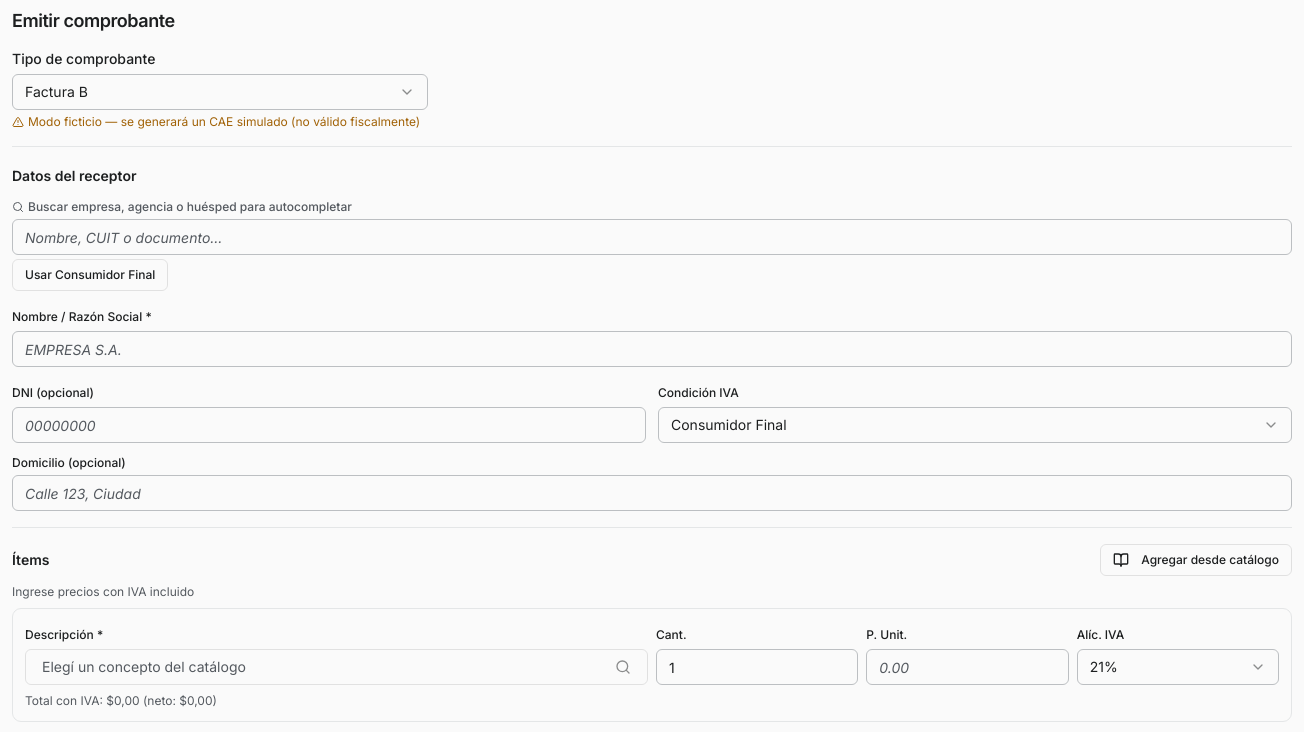
Centro de Comprobantes — receptor vinculado › busca la ficha de Huéspedes y mantiene su identidad al revisar
Type "maria" into the field with test id "input-entity-search" at (652, 237), box left=12, top=219, right=1292, bottom=255
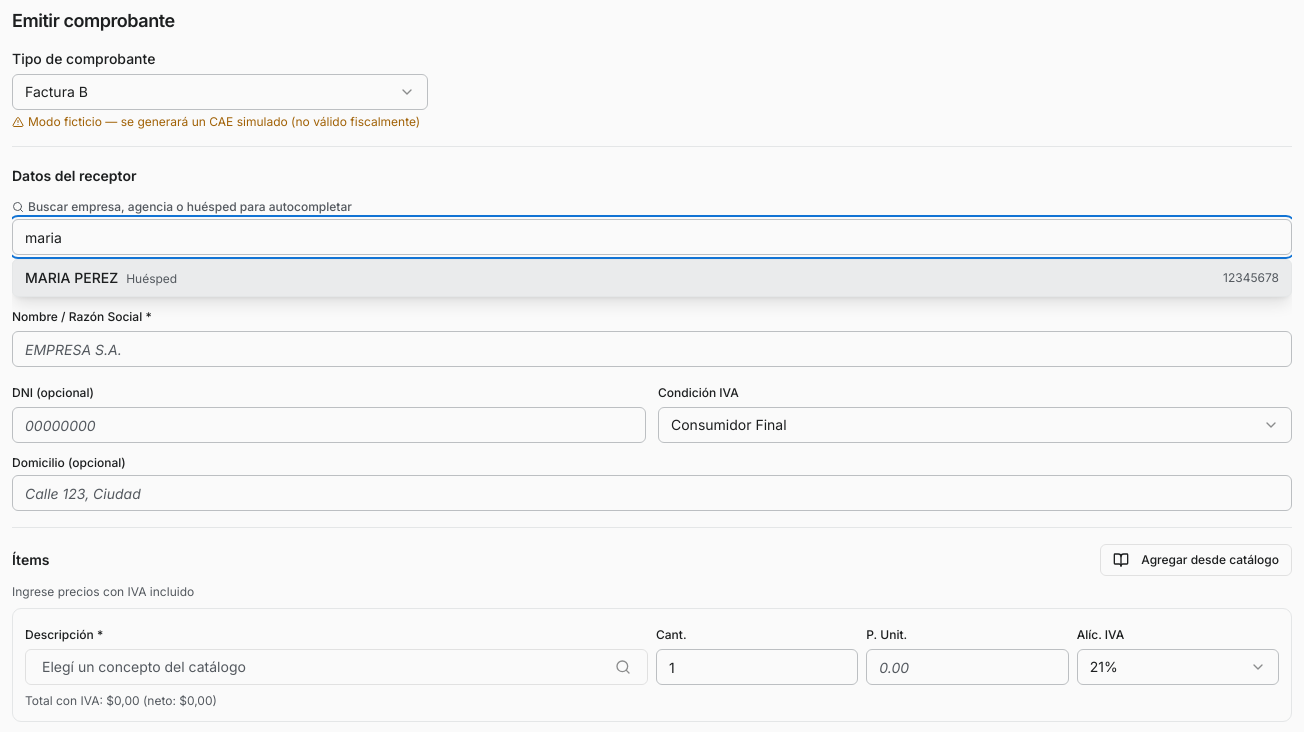
Click the text "MARIA PEREZ" at (72, 278), box left=25, top=269, right=118, bottom=286
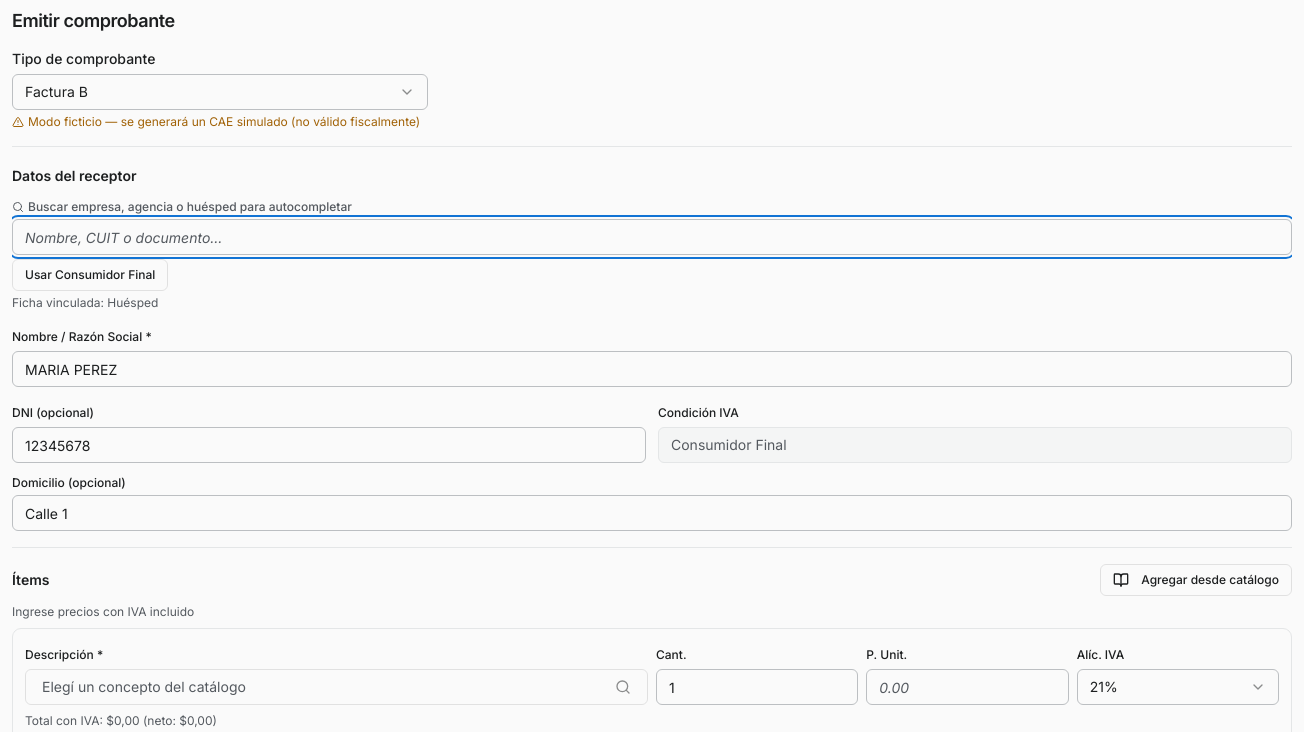
Now the text with test id "recipient-linked" shows "Huésped", box left=107, top=295, right=158, bottom=310
Now the field with test id "input-razon-social" holds "MARIA PEREZ", box left=12, top=351, right=1292, bottom=387
Now the field with test id "input-dni" holds "12345678", box left=12, top=427, right=646, bottom=463
